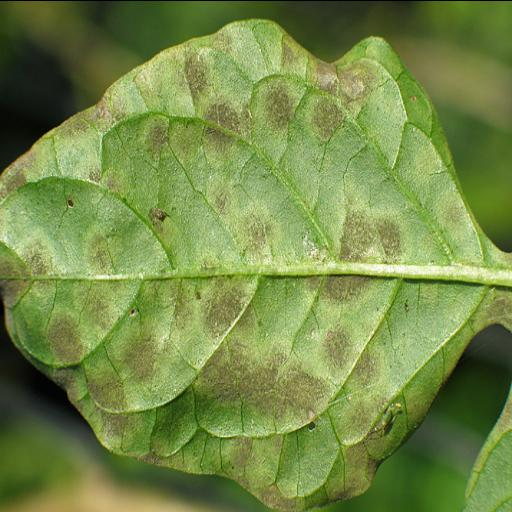disease_tomato: (0, 9, 487, 512)
